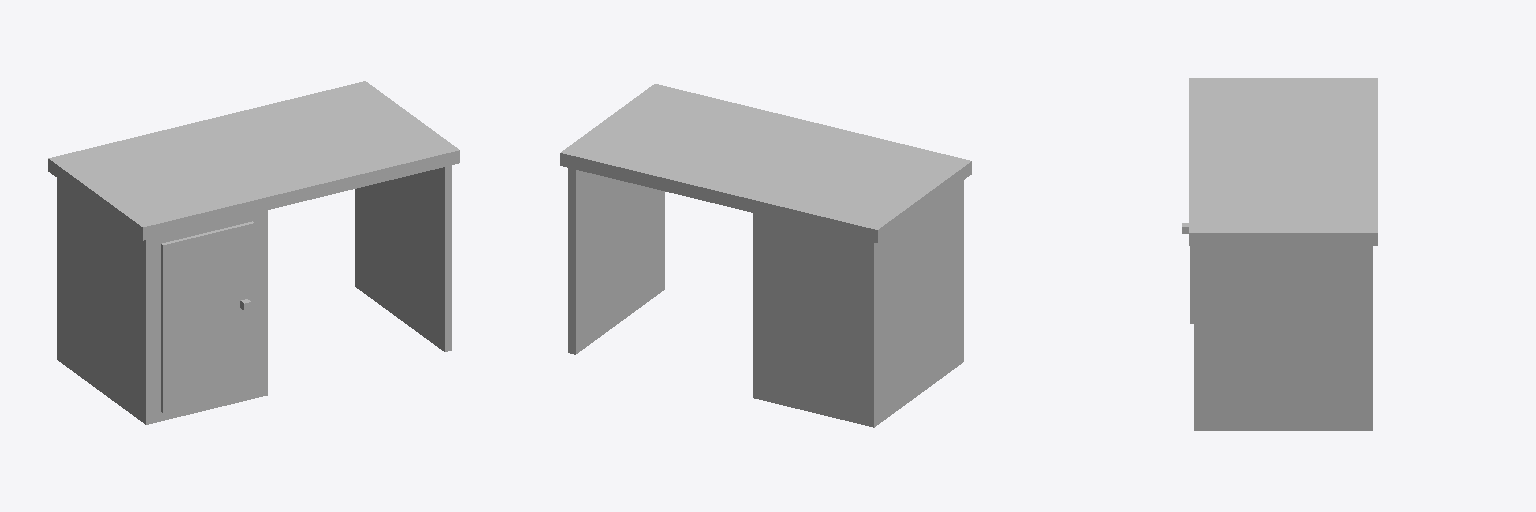
The model's file is collabtable.obj.
3 views of the same model, side by side, from view 1: azimuth 30°, elevation 25°; view 2: azimuth 150°, elevation 25°; view 3: azimuth 270°, elevation 25° (orthographic).
Size of the model in its own units: 161 by 97.29 by 86.17.